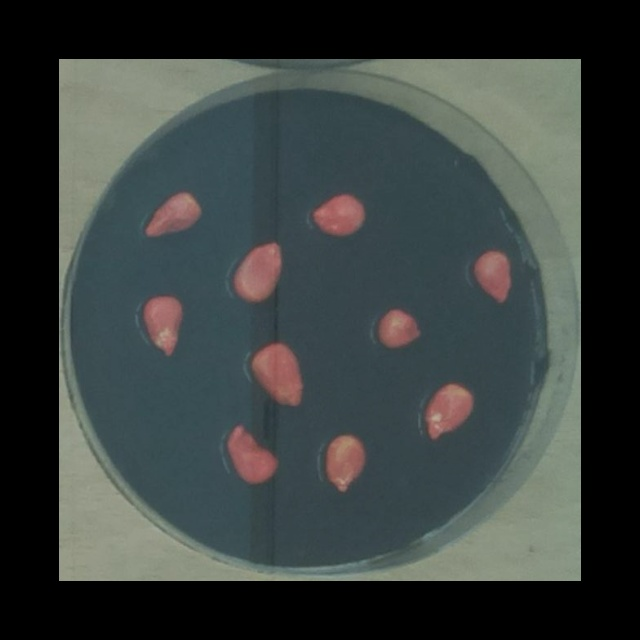Zea mays: (243, 335, 307, 412), (220, 417, 284, 491), (416, 378, 479, 446), (227, 235, 287, 306), (138, 187, 207, 243), (136, 291, 188, 363), (304, 187, 371, 242), (320, 427, 372, 497), (468, 244, 516, 308), (372, 302, 427, 355)
